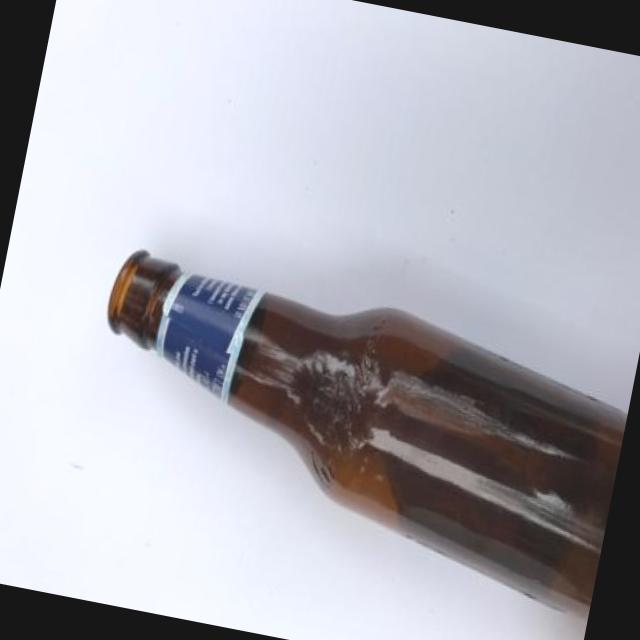chai_thuy_tinh: (107, 250, 627, 618)
